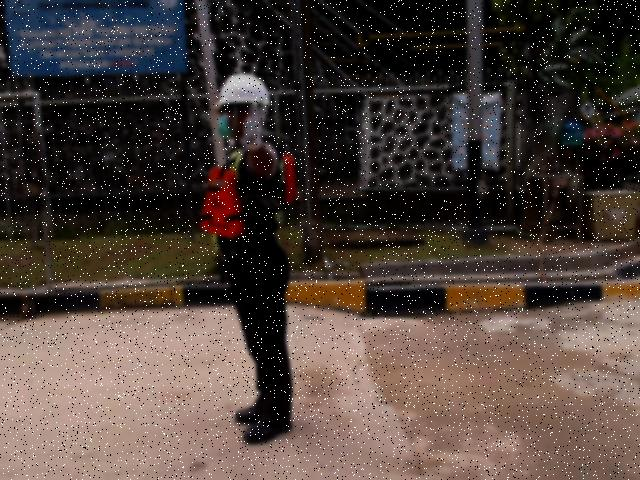glasses: (219, 106, 240, 115)
gloves: (238, 98, 270, 152)
helmet: (214, 72, 272, 106)
mask: (217, 115, 233, 141)
safety-shoes: (240, 416, 296, 445), (233, 398, 264, 423)
vest: (198, 152, 299, 240)
